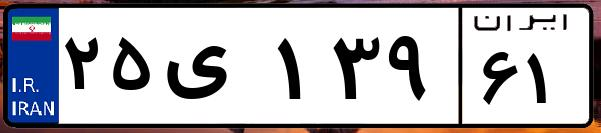1: (270, 28, 330, 110), (525, 38, 570, 115)
2: (57, 26, 110, 100)
3: (330, 28, 385, 110)
5: (110, 28, 158, 98)
6: (475, 38, 525, 113)
9: (385, 28, 445, 110)
ی: (158, 20, 270, 120)
